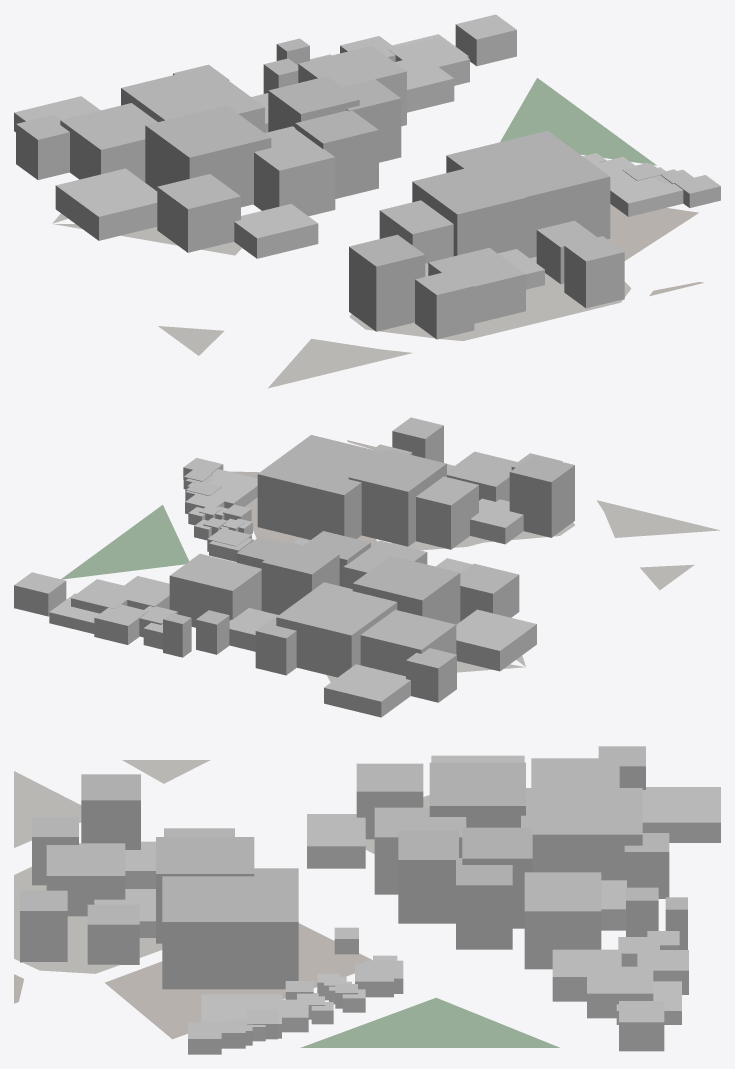
The model's file is 129_107_mid.glb.
3 renders of one model, top to bottom at view 1: azimuth 30°, elevation 25°; view 2: azimuth 150°, elevation 25°; view 3: azimuth 270°, elevation 25°, orthographic. The views are drawn at different scales.
Size of the model in its own units: 511 by 58.34 by 521.
